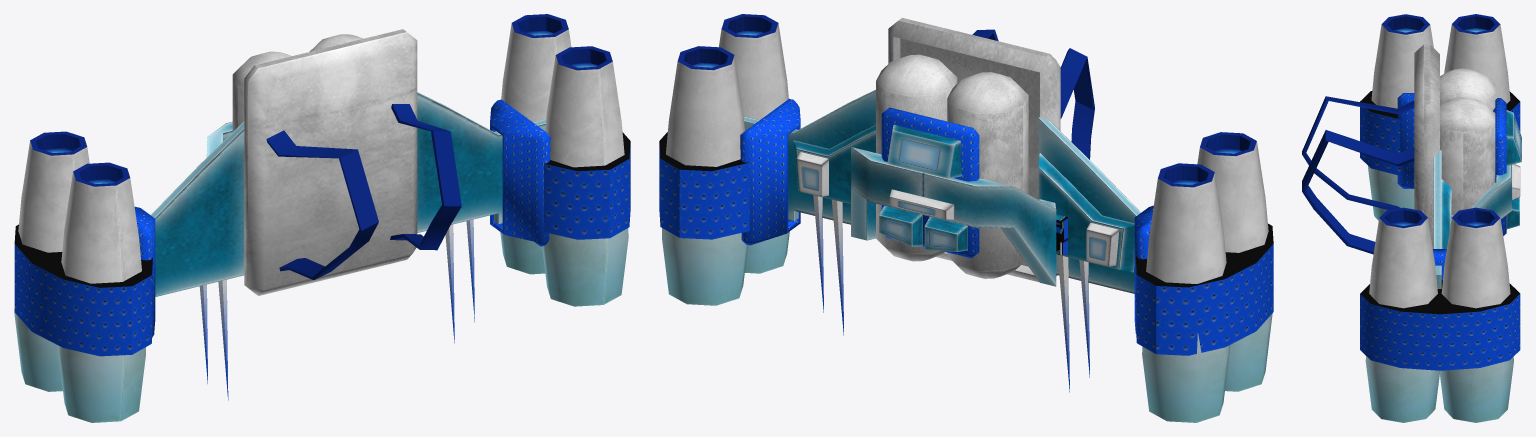
Rendered from JETPACK.FBX.
The picture shows the model from 3 angles, left to right: view 1: azimuth 30°, elevation 25°; view 2: azimuth 150°, elevation 25°; view 3: azimuth 270°, elevation 25°; orthographic projection. The views are drawn at different scales.
Parts seen in each view (by area): view 1: JETPACK; view 2: JETPACK; view 3: JETPACK.
Part boxes in pixels (x1=…): JETPACK: x1=14, y1=14, x2=630, y2=422; JETPACK: x1=659, y1=14, x2=1273, y2=422; JETPACK: x1=1302, y1=14, x2=1521, y2=422.
Size of the model in its own units: 77.96 by 42.52 by 31.01.
